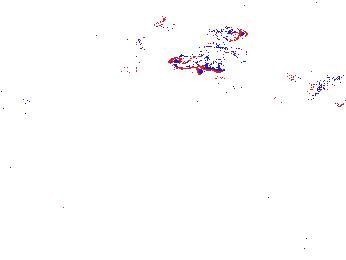X-ray fish: (70, 141, 142, 179), (112, 35, 149, 75)
red belly glassfish: (210, 27, 248, 43), (151, 16, 180, 36)
redtail glassfish: (213, 75, 293, 112), (116, 52, 191, 89), (169, 45, 253, 74), (287, 65, 344, 90), (303, 78, 346, 105)
